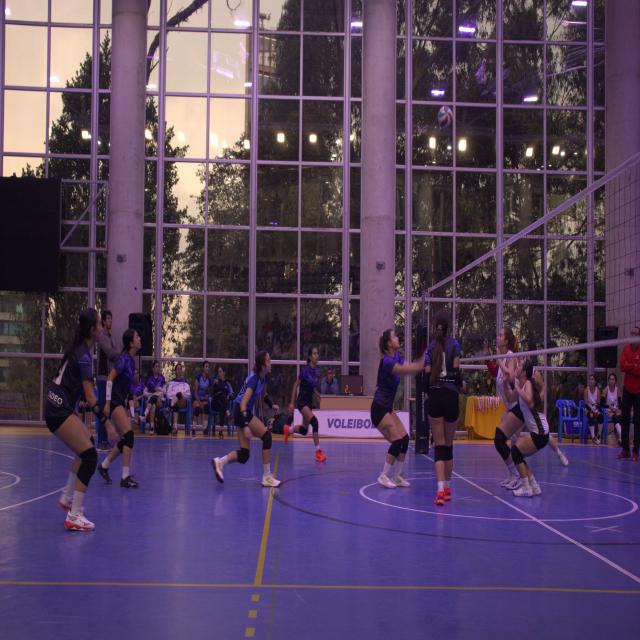volleyball: (438, 105, 453, 130)
